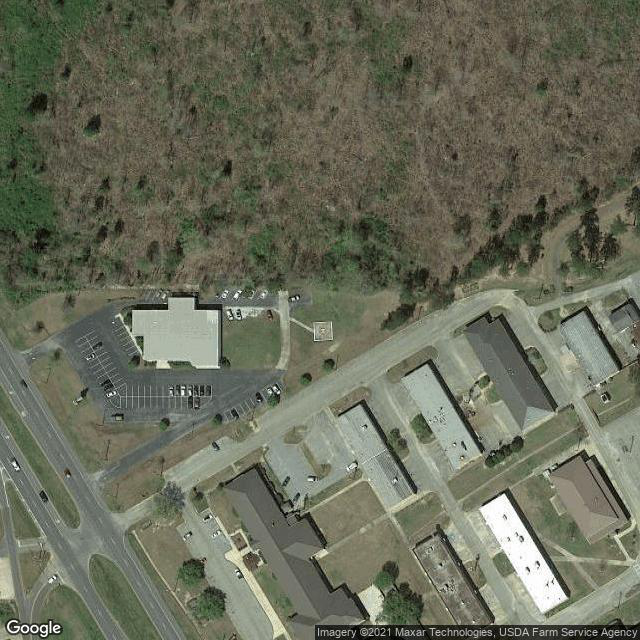Helipad: (310, 317, 337, 343)
